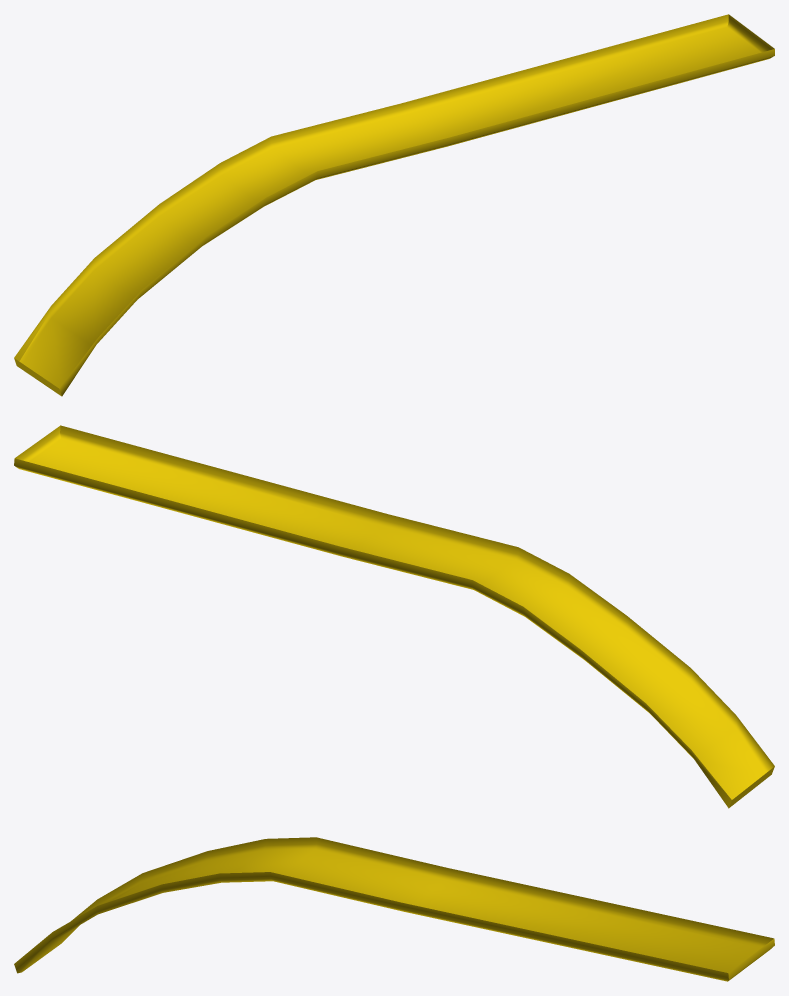
The model's file is Apoio.fbx.
3 views of the same model, one above another, from view 1: azimuth 30°, elevation 25°; view 2: azimuth 150°, elevation 25°; view 3: azimuth 330°, elevation 25° (orthographic).
Visible parts, largest first — view 1: Apoio; view 2: Apoio; view 3: Apoio.
Boxes of the visible parts, x1,y1,x2,y2 form: Apoio: [14, 14, 774, 396]; Apoio: [14, 425, 774, 808]; Apoio: [14, 837, 774, 981].
Bounding box in the file's own units: 267 × 63 × 30.98.
